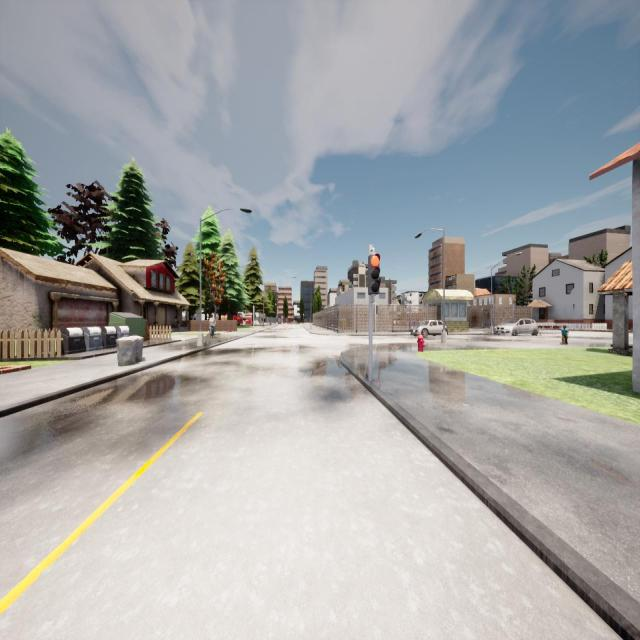Pedestrian: (209, 313, 215, 338), (561, 324, 568, 344)
Vehicle: (494, 318, 538, 336), (411, 320, 447, 336)
traffic_light: (368, 255, 379, 294), (376, 305, 379, 314)
